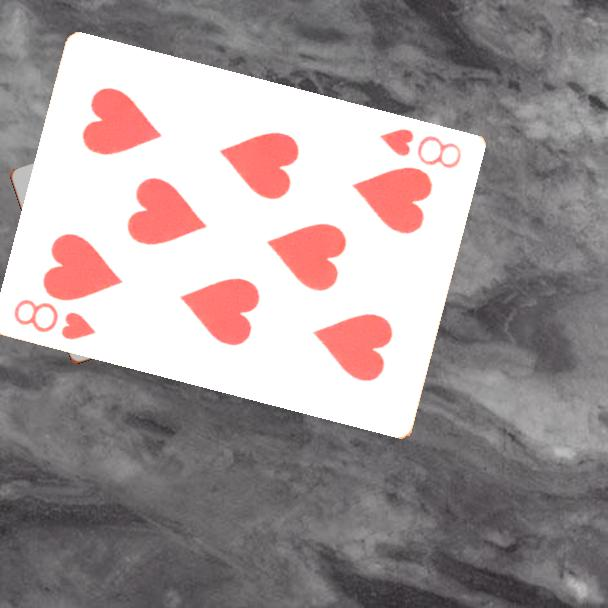h08: (11, 295, 99, 343), (377, 124, 465, 171)
